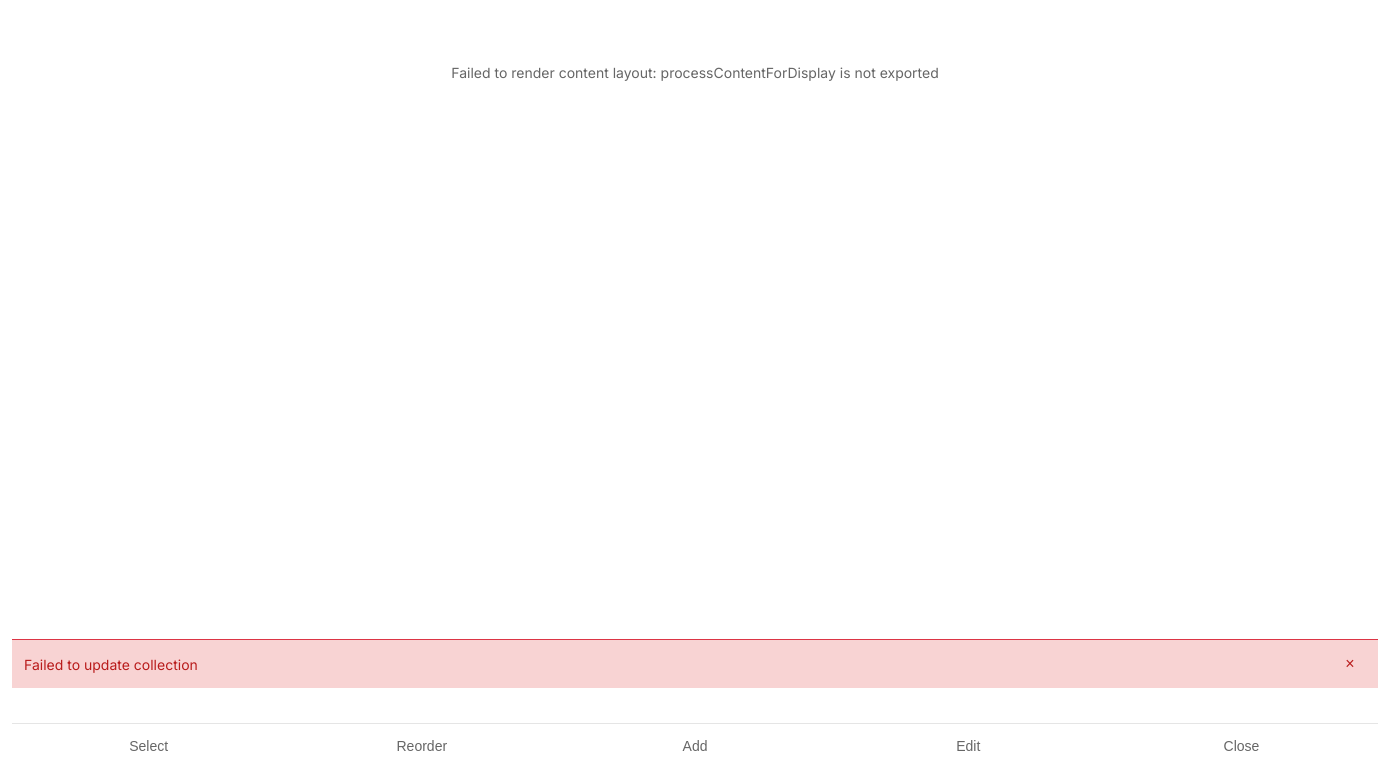
CollectionPageClient — editMode true › dismisses the error banner when the × button is clicked
Expected: the message "Failed to update collection ×" is shown, x1=12 y1=639 x2=1378 y2=688
Click the button named "Dismiss error" at [1350, 664], box x1=1334 y1=648 x2=1366 y2=680
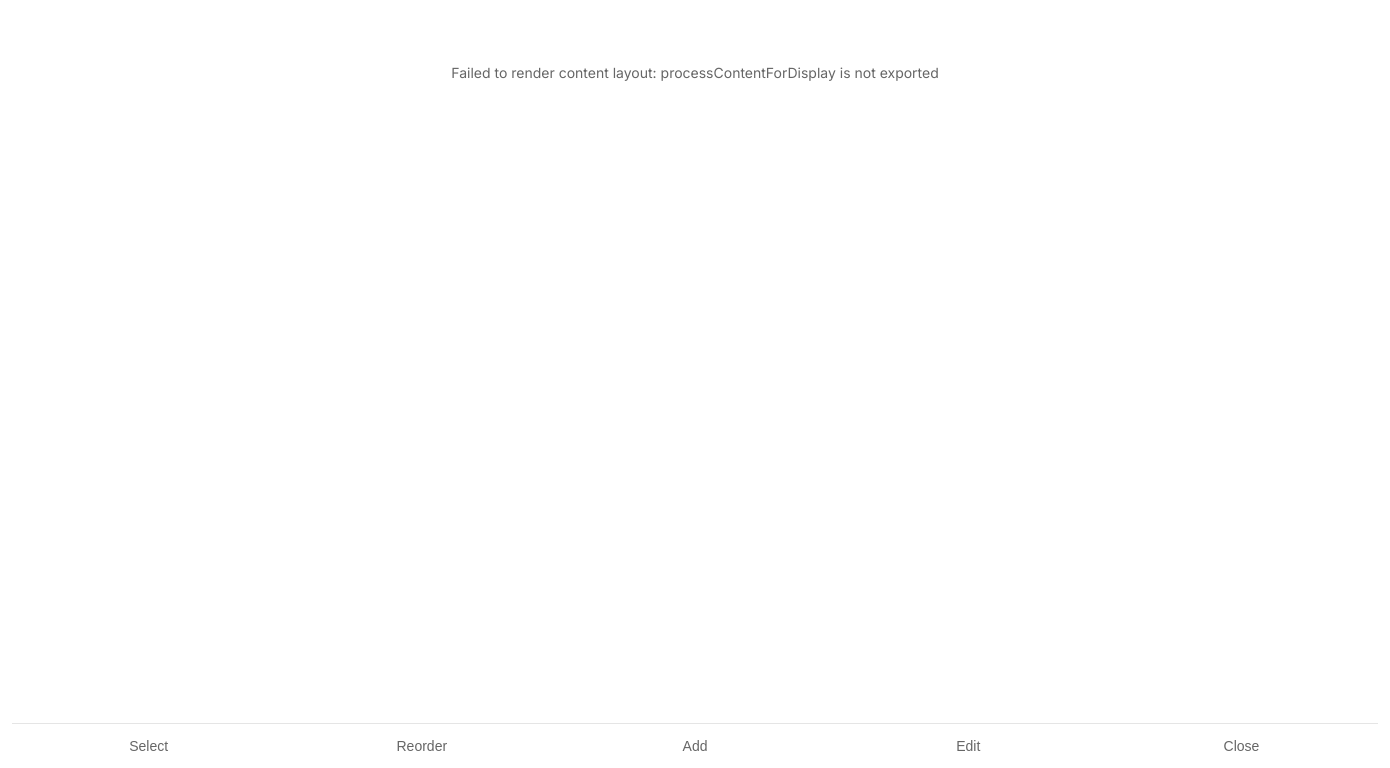
Expected: the message "Failed to update collection ×" is gone
